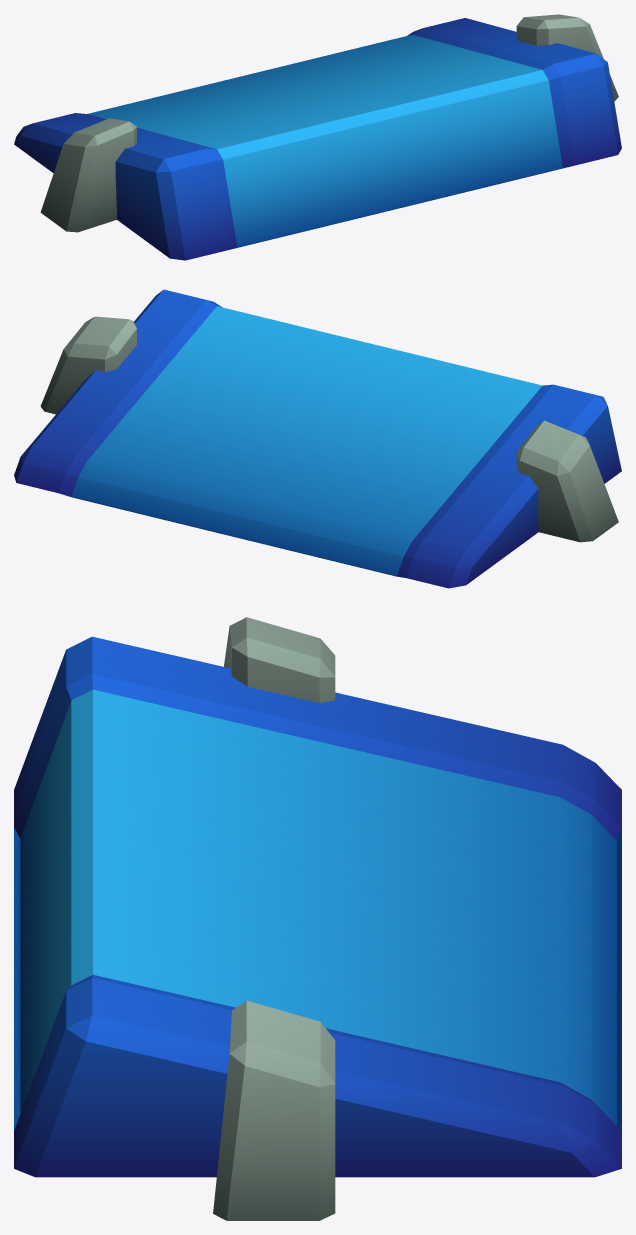
The model's file is ramp.fbx.
3 renders of one model, top to bottom at view 1: azimuth 30°, elevation 25°; view 2: azimuth 150°, elevation 25°; view 3: azimuth 270°, elevation 25°, orthographic. The views are drawn at different scales.
Parts seen in each view (by area): view 1: ramp; view 2: ramp; view 3: ramp.
Part boxes in pixels (<box>): ramp: <box>14,14,621,260</box>; ramp: <box>14,289,621,588</box>; ramp: <box>14,617,621,1220</box>.
Size of the model in its own units: 645 by 102 by 343.
